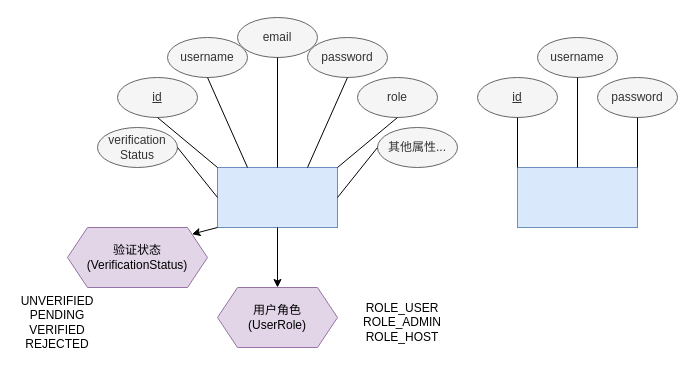
Image size: 695x375. Some labels were removed from this diagram. The centre of each missing label's shape, as x and y in pixels:
用户(User): point (277, 197)
管理员(Admin): point (577, 197)
